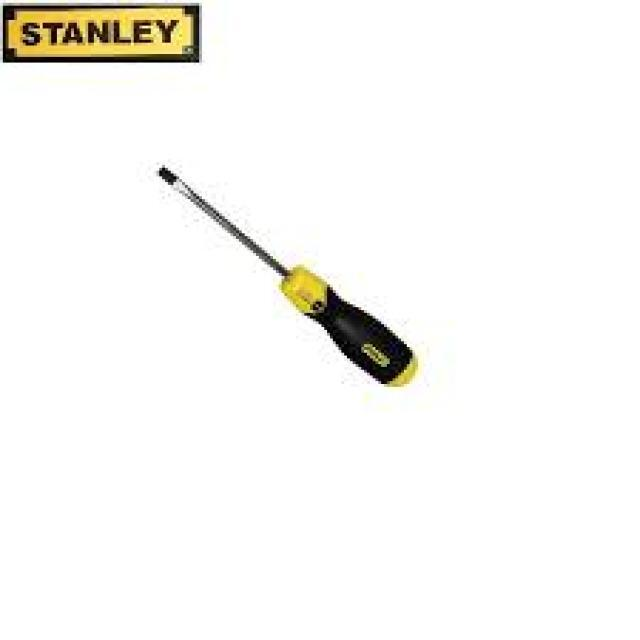screwdriver: (151, 163, 421, 400)
